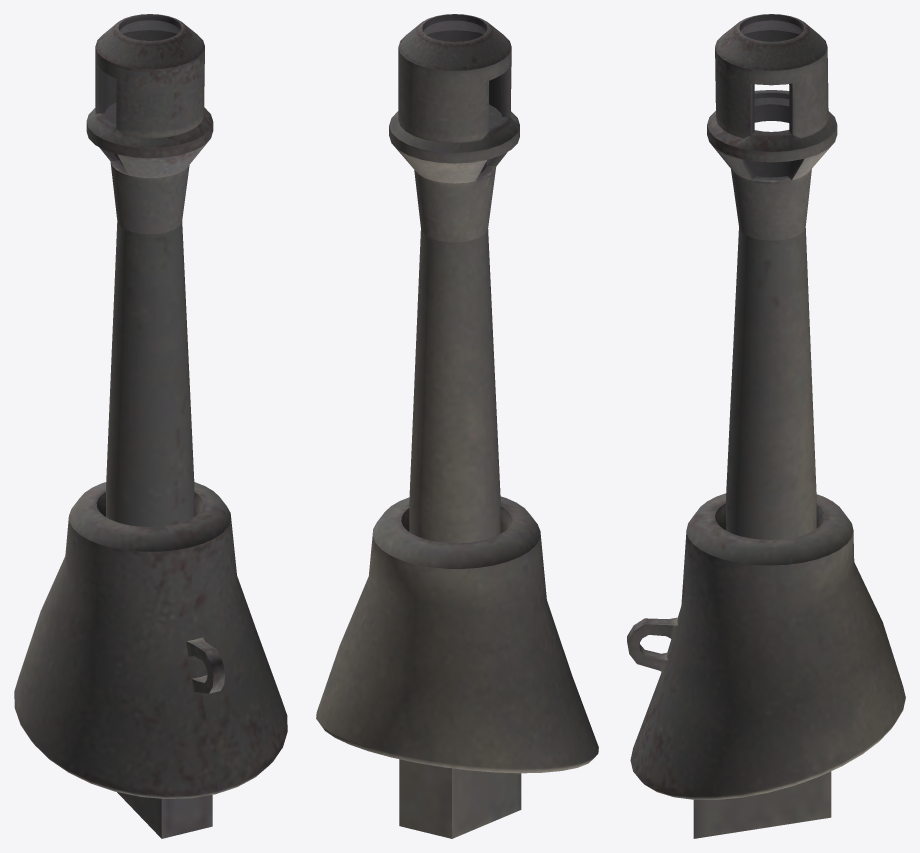
File: Gun_05.glb
3 views of the same model, side by side, from view 1: azimuth 30°, elevation 25°; view 2: azimuth 150°, elevation 25°; view 3: azimuth 270°, elevation 25° (orthographic). The views are drawn at different scales.
Visible parts, largest first — view 1: set_0_group_0; view 2: set_0_group_0; view 3: set_0_group_0.
Boxes of the visible parts, x1,y1,x2,y2 form: set_0_group_0: (14, 14, 287, 838); set_0_group_0: (316, 14, 598, 838); set_0_group_0: (627, 14, 905, 838).
Bounding box in the file's own units: 0.6581 × 2.04 × 0.6461.
Materials: 1 (1 with a texture image).
